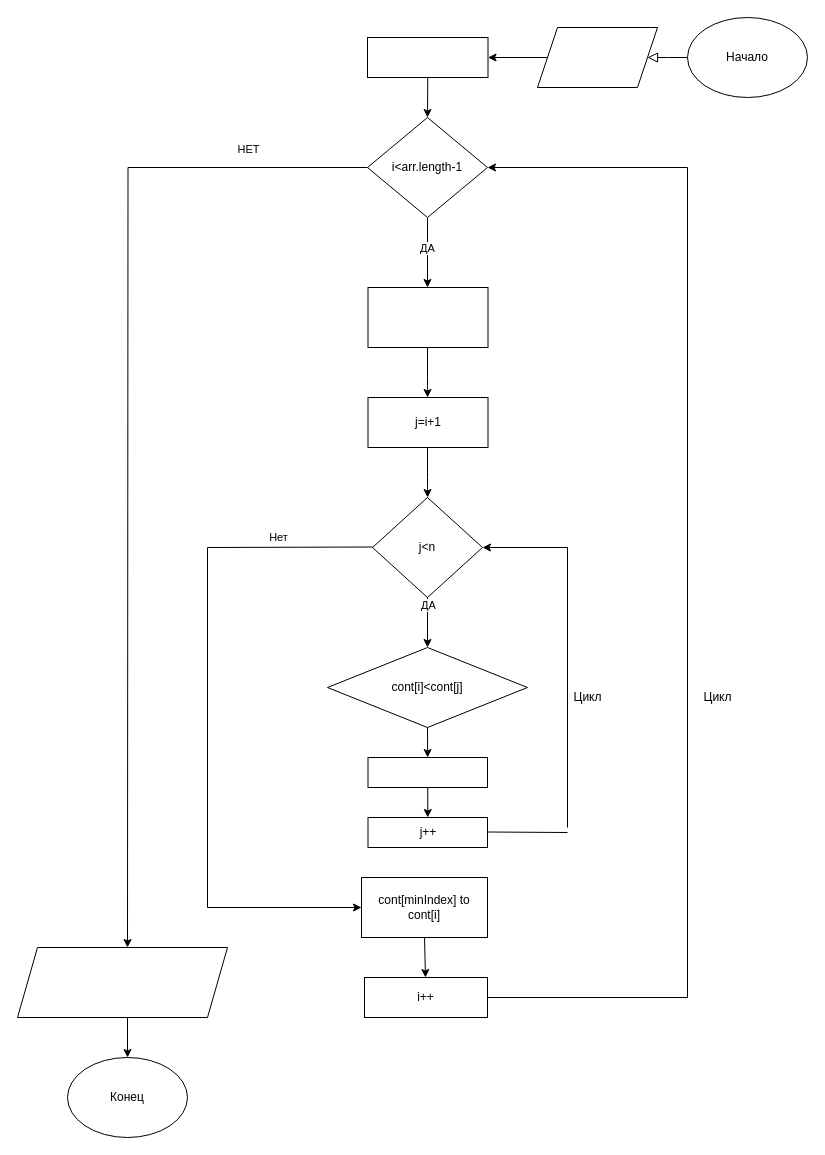
This 825x1155 diagram has some shape labels left out. The box of each missing label's shape, as (x1, y1, x2, y2) in pixels:
i=0: (366, 36, 488, 78)
minIndex = i: (367, 286, 488, 348)
minIndex = j: (367, 756, 488, 788)
массив: (536, 26, 658, 88)
Печать массива: (16, 946, 228, 1018)
